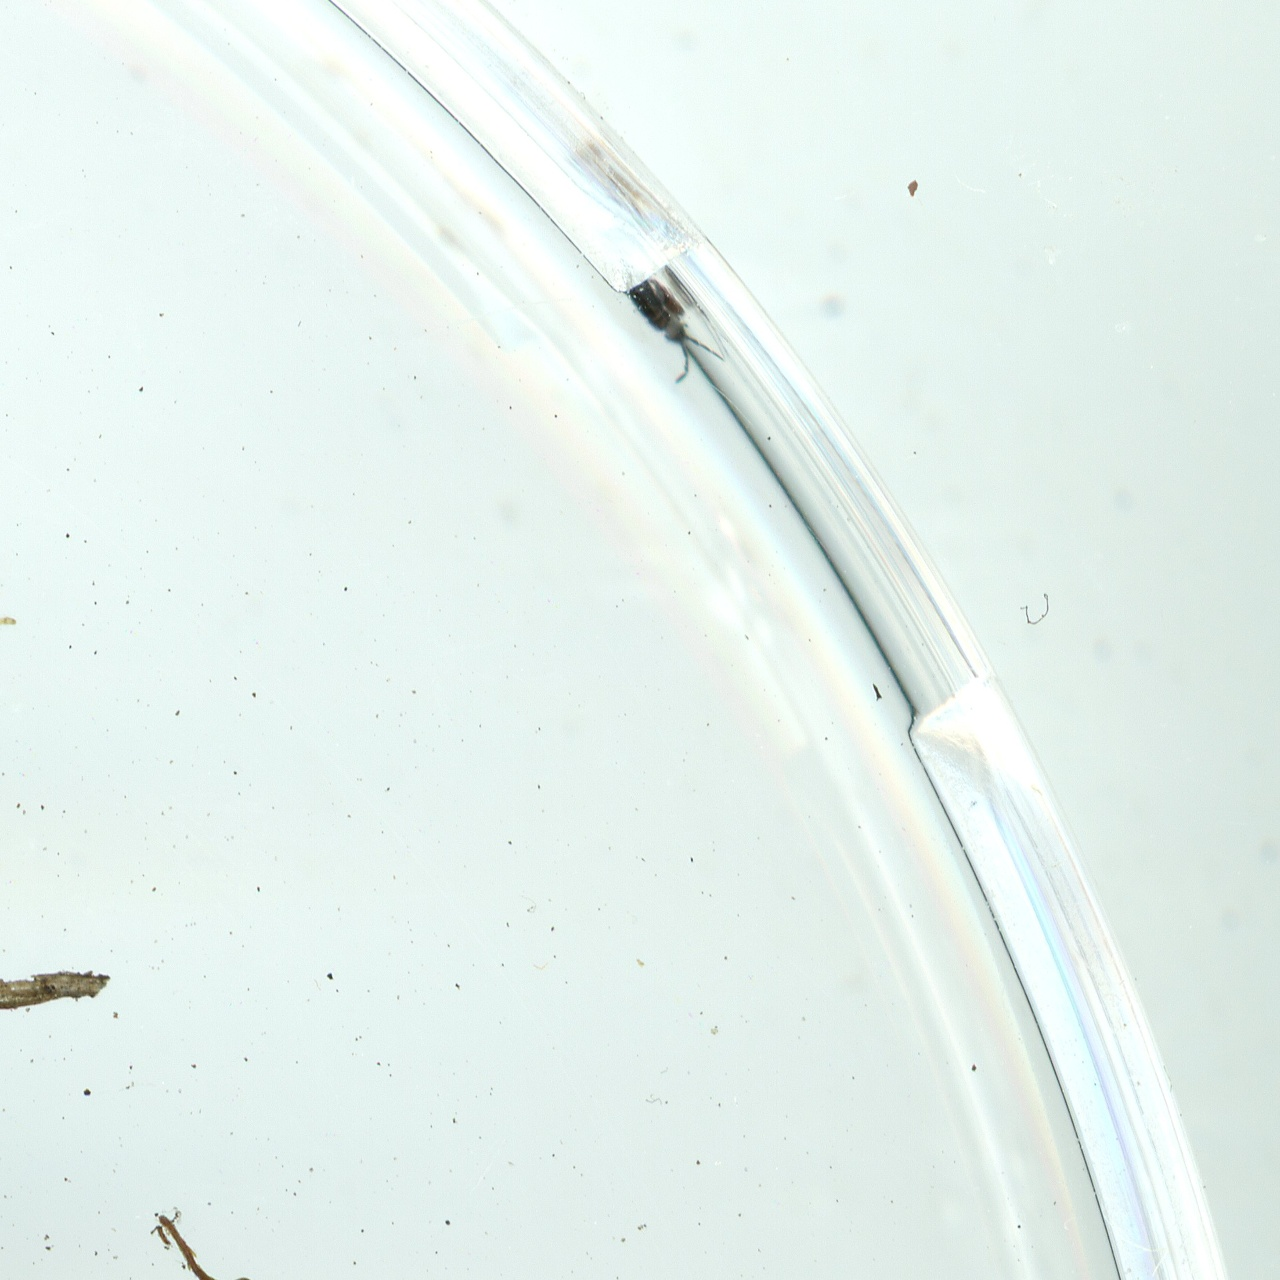arthropod: (604, 246, 734, 396), (0, 561, 22, 674)
